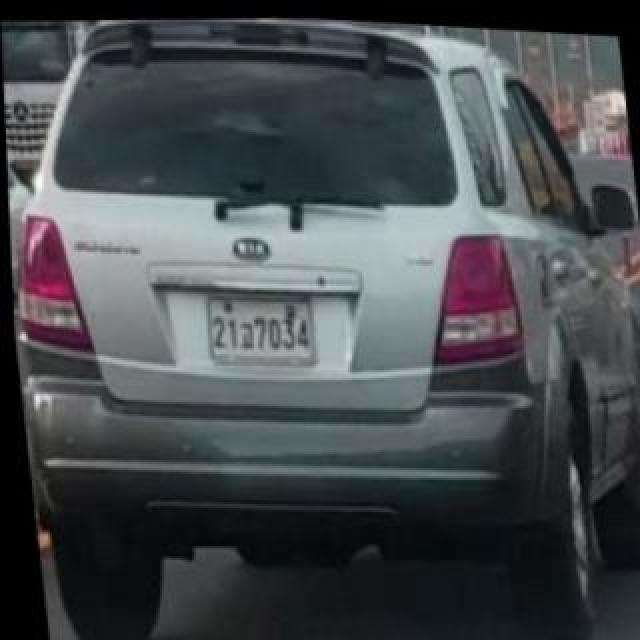car: (7, 11, 633, 614)
illegal_plate: (192, 285, 324, 372)
